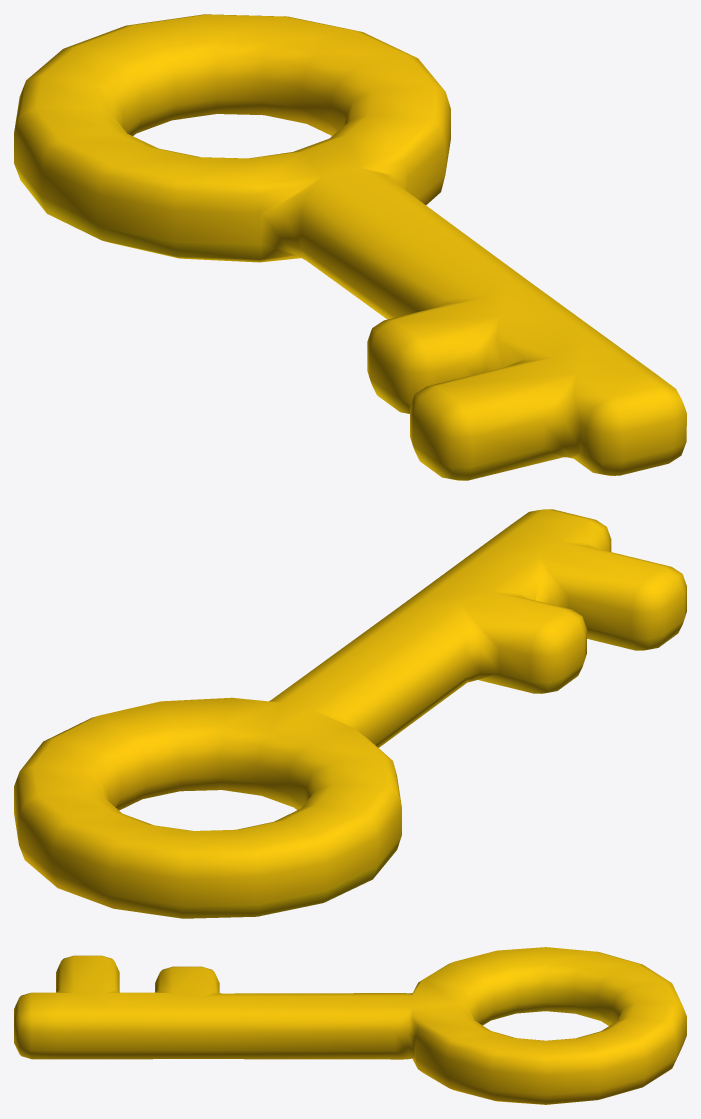
Rendered from key.fbx.
3 views of the same model, one above another, from view 1: azimuth 30°, elevation 25°; view 2: azimuth 150°, elevation 25°; view 3: azimuth 270°, elevation 25° (orthographic). The views are drawn at different scales.
Visible parts, largest first — view 1: key; view 2: key; view 3: key.
Part boxes in pixels (x1,y1,x2,y2): key: (14,14,686,480); key: (14,509,686,918); key: (14,947,686,1104).
Size of the model in its own units: 30.35 by 6.07 by 72.48.
